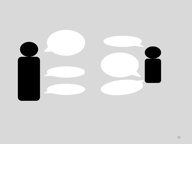left_speech: (42, 25, 88, 58), (42, 62, 87, 79), (42, 82, 86, 98)
right_speech: (98, 51, 142, 78), (96, 77, 145, 97), (101, 31, 145, 50)
